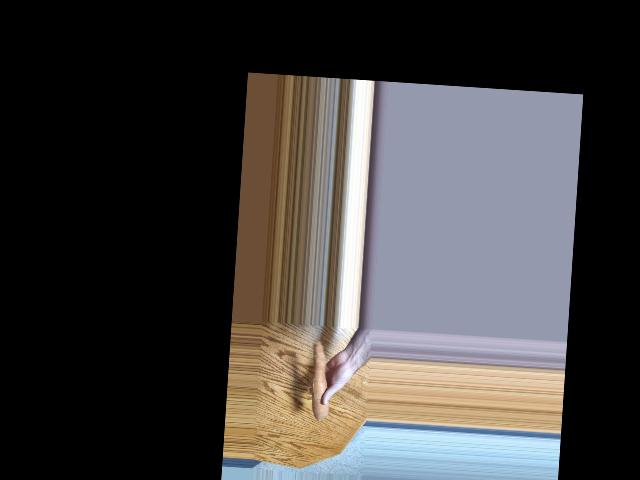sweet_potato: (307, 337, 330, 419)
